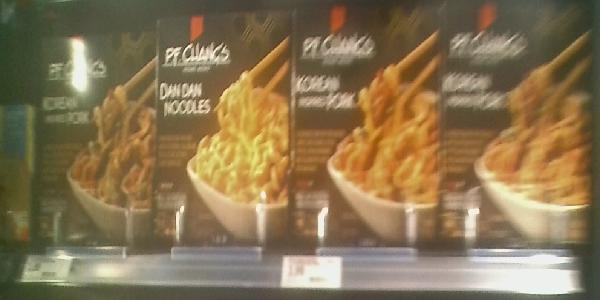pizza1: (440, 1, 593, 249), (294, 7, 439, 254), (159, 7, 292, 249), (34, 13, 157, 252)
